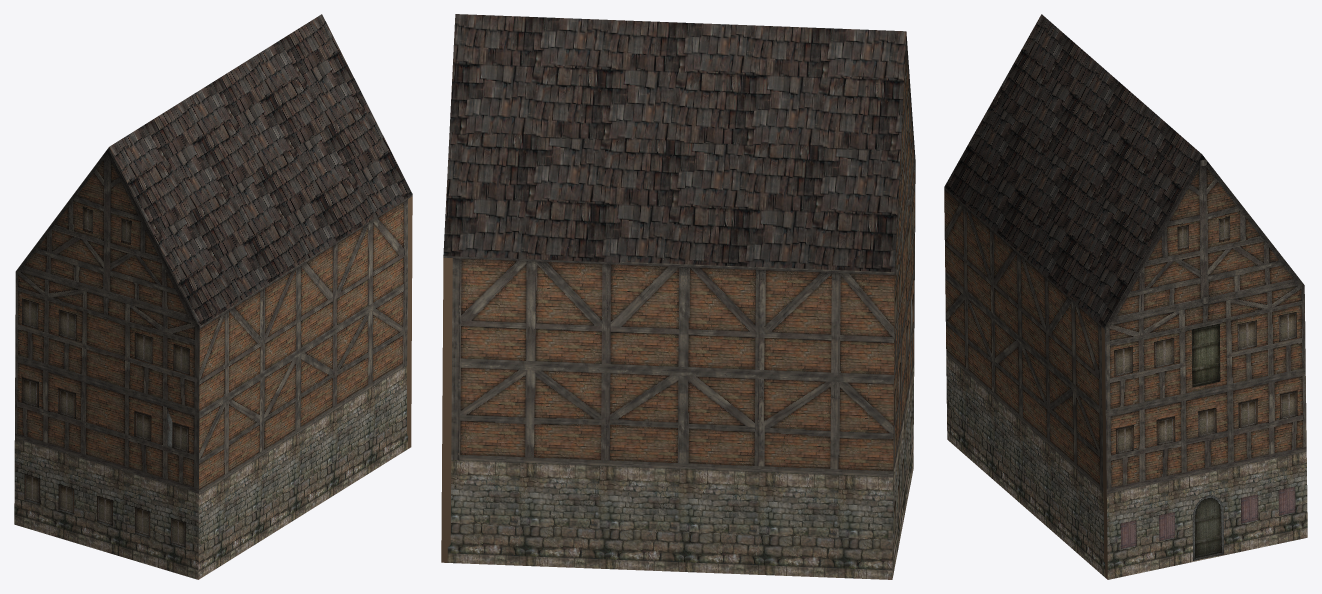
The model's file is fachwerkhaus2_2_LOD.fbx.
The picture shows the model from 3 angles, left to right: view 1: azimuth 30°, elevation 25°; view 2: azimuth 150°, elevation 25°; view 3: azimuth 270°, elevation 25°; orthographic projection. The views are drawn at different scales.
Visible parts, largest first — view 1: object; view 2: object; view 3: object.
Part boxes in pixels (left/top/right/bottom): object: left=14, top=14, right=412, bottom=579; object: left=441, top=14, right=915, bottom=579; object: left=944, top=14, right=1307, bottom=579.
Bounding box in the file's own units: 331 × 344 × 278.
